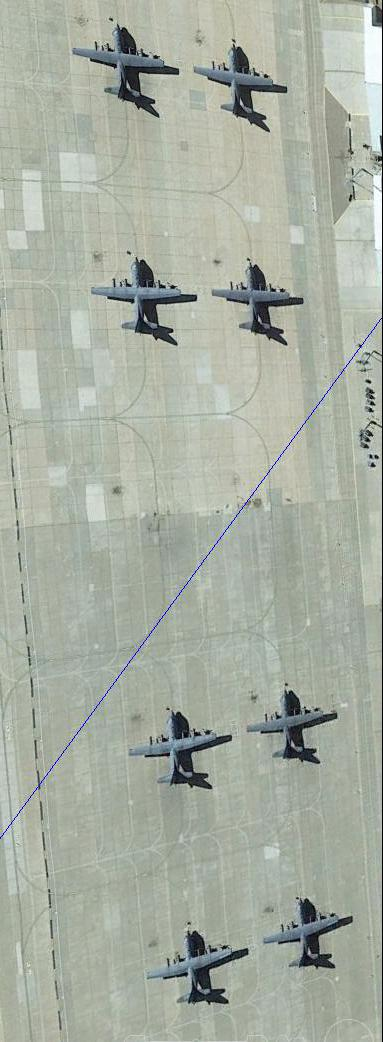C-130: (88, 252, 196, 340), (71, 22, 178, 110), (124, 709, 225, 790), (143, 930, 243, 1010), (192, 41, 284, 125), (208, 262, 304, 340), (244, 686, 333, 765), (259, 895, 353, 969)
